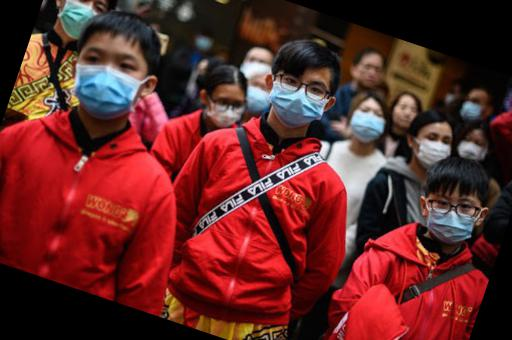with_mask: (62, 37, 152, 124), (261, 65, 335, 136), (415, 182, 485, 249), (408, 124, 455, 174), (201, 89, 247, 133), (346, 102, 390, 145), (239, 74, 279, 119), (236, 49, 277, 87), (454, 133, 489, 168), (455, 91, 489, 123)
without_mask: (389, 98, 420, 130), (353, 59, 384, 89)
